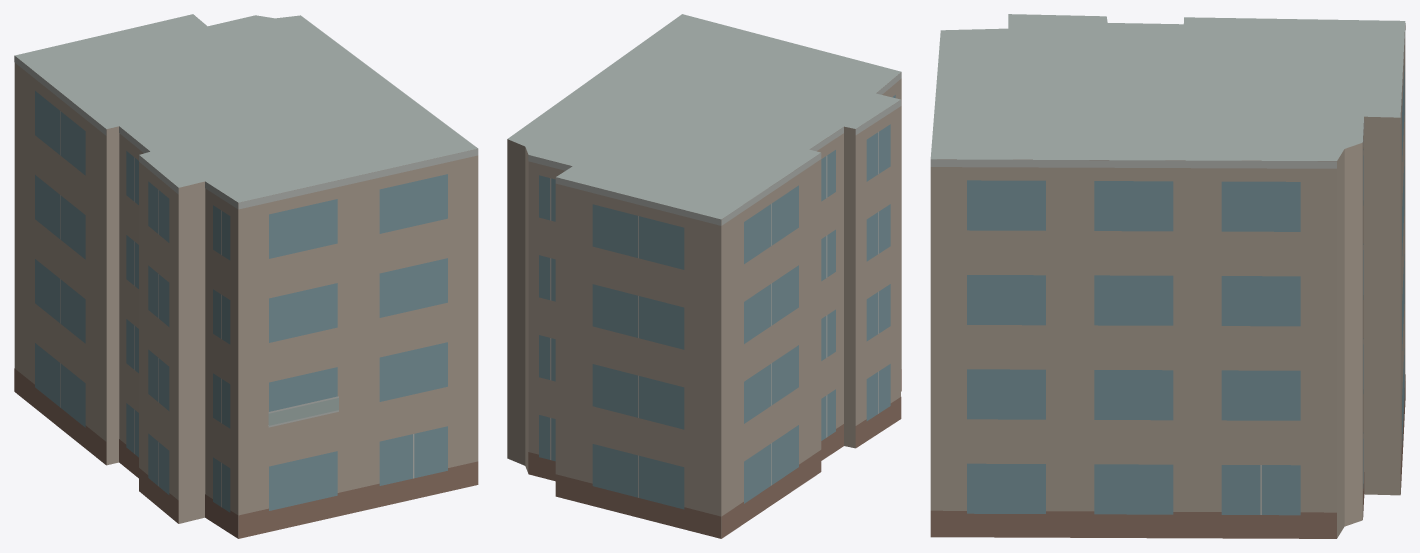
File: survey-upis-32644391.glb
The picture shows the model from 3 angles, left to right: view 1: azimuth 30°, elevation 25°; view 2: azimuth 150°, elevation 25°; view 3: azimuth 270°, elevation 25°; orthographic projection. The views are drawn at different scales.
Visible parts, largest first — view 1: survey-upis-32644391.tmp; view 2: survey-upis-32644391.tmp; view 3: survey-upis-32644391.tmp.
Boxes of the visible parts, x1,y1,x2,y2 form: survey-upis-32644391.tmp: [14, 14, 478, 538]; survey-upis-32644391.tmp: [507, 14, 901, 538]; survey-upis-32644391.tmp: [930, 14, 1405, 538].
Size of the model in its own units: 10.03 by 12 by 13.68.
